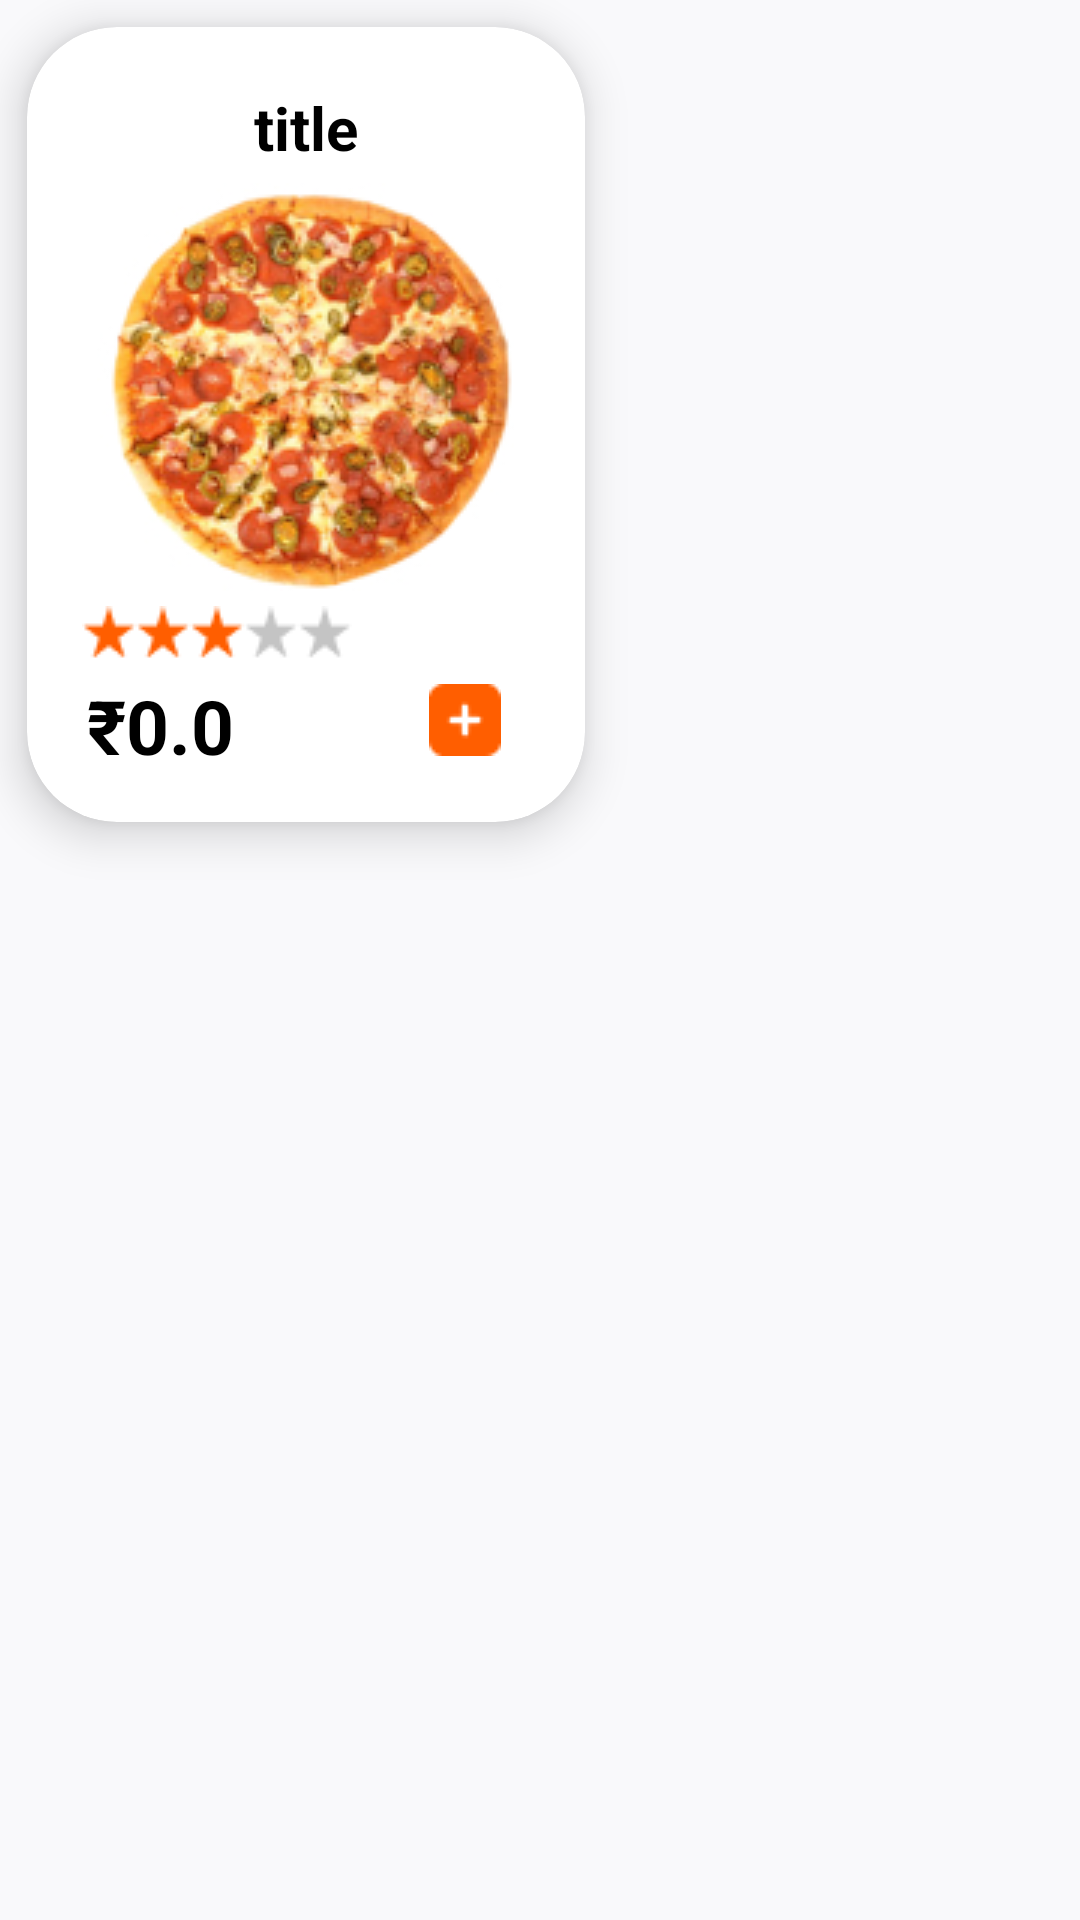

Named icons in this screenshot (1080w x 1920h) and their centers, (x,y):
add: (465,720)
full star: (109,632), (163,632), (217,632)
null star: (271,633), (325,633)
